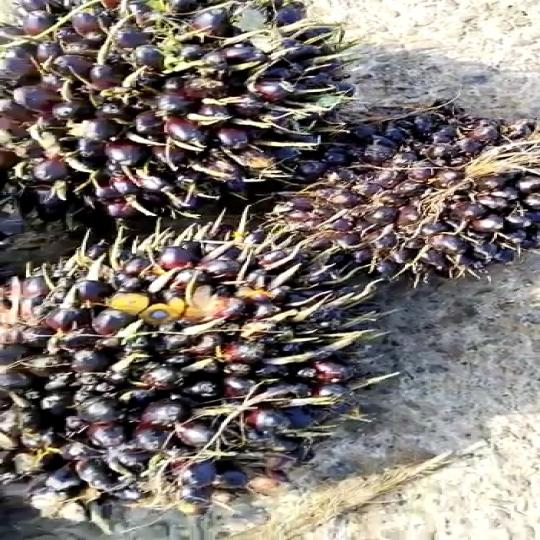kurang masak: (0, 224, 365, 514), (0, 0, 341, 217), (303, 95, 540, 279)
